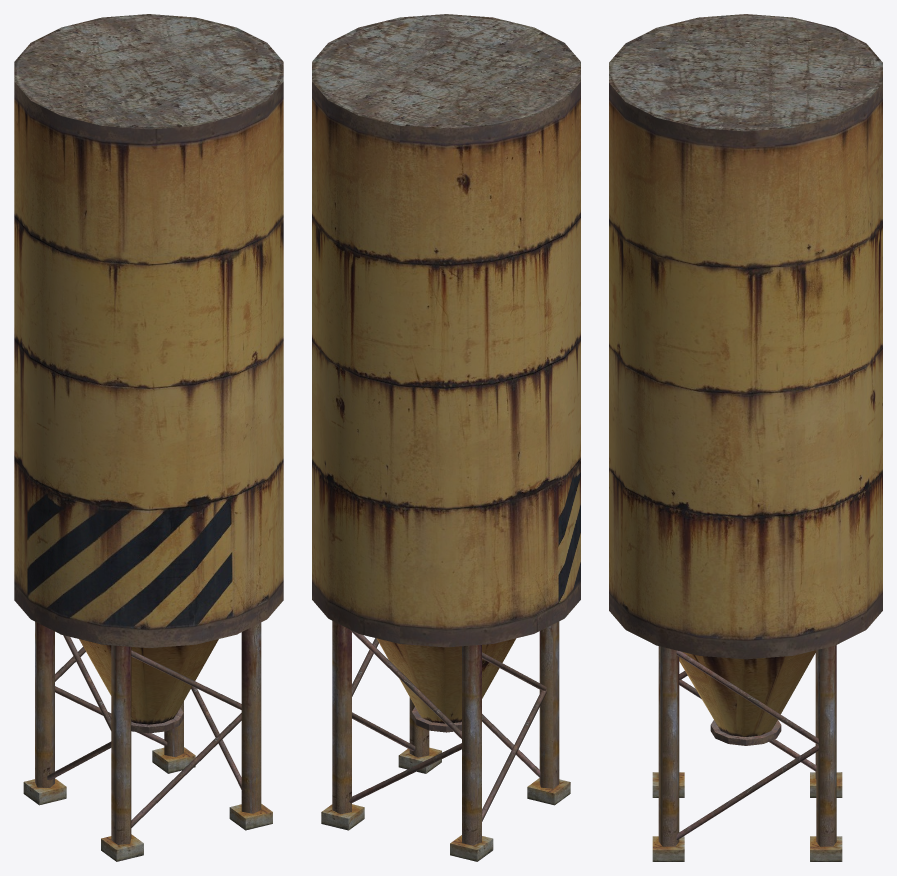
The model's file is Oil_tank_v2 (3).glb.
3 renders of one model, left to right at view 1: azimuth 30°, elevation 25°; view 2: azimuth 150°, elevation 25°; view 3: azimuth 270°, elevation 25°, orthographic.
Parts seen in each view (by area): view 1: Oil_tank_v2 (3); view 2: Oil_tank_v2 (3); view 3: Oil_tank_v2 (3).
Part boxes in pixels (bbox=[...]): Oil_tank_v2 (3): bbox=[14, 14, 283, 861]; Oil_tank_v2 (3): bbox=[312, 14, 580, 861]; Oil_tank_v2 (3): bbox=[609, 14, 882, 861].
Size of the model in its own units: 1.74 by 5.18 by 1.71.
1 material, 1 textured.
